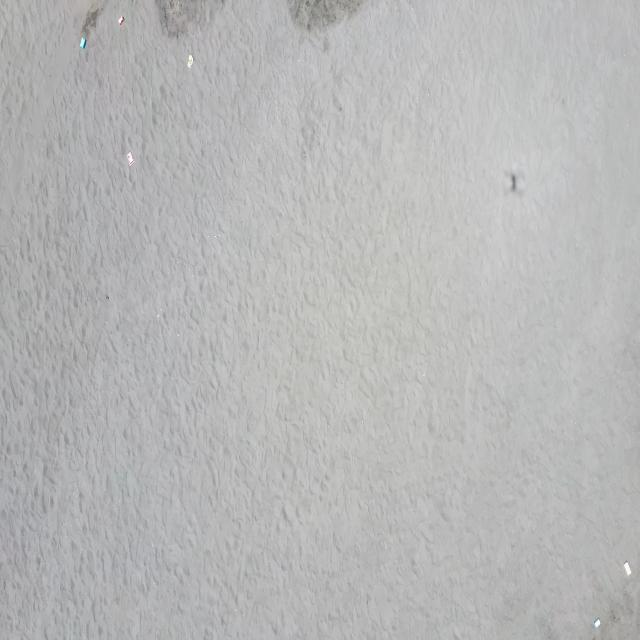Garbage: (125, 152, 134, 166), (623, 562, 631, 575), (592, 617, 600, 627), (80, 35, 85, 48), (187, 54, 192, 67), (118, 16, 123, 24)
